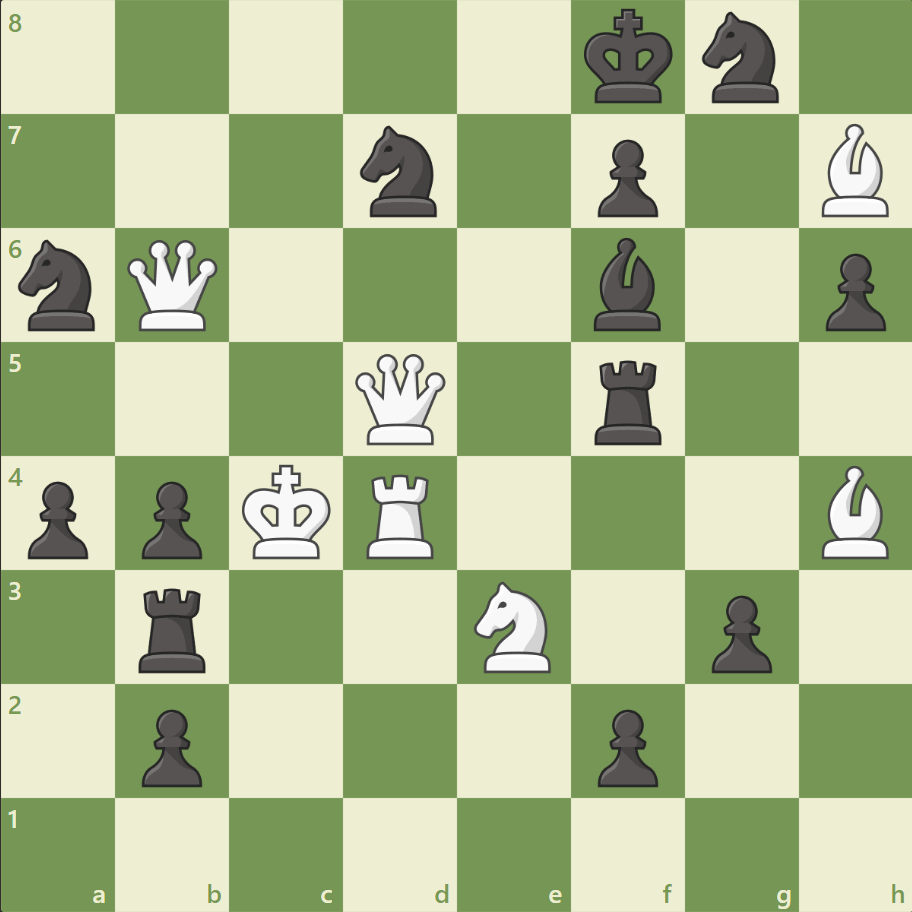B: (812, 460, 896, 563), (812, 120, 896, 222)
K: (238, 458, 338, 566)
N: (465, 575, 562, 677)
Q: (351, 349, 450, 449), (124, 236, 223, 335)
R: (360, 466, 442, 563)
b: (585, 233, 669, 336)
k: (579, 4, 679, 112)
n: (351, 121, 449, 223), (692, 7, 789, 110), (11, 234, 108, 337)
p: (20, 473, 95, 564), (133, 473, 208, 564), (701, 586, 776, 677), (133, 700, 208, 791), (588, 132, 662, 223), (815, 246, 889, 337), (588, 700, 662, 791)
r: (587, 352, 670, 449), (133, 579, 215, 676)
